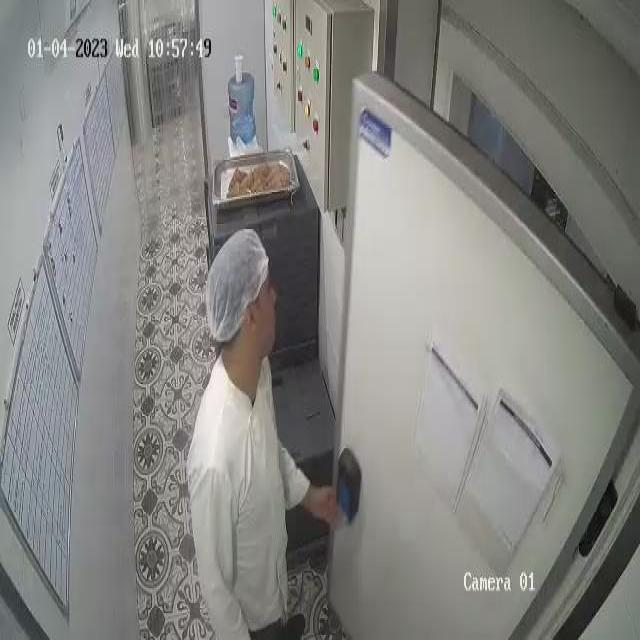hairnet: (203, 234, 269, 328)
